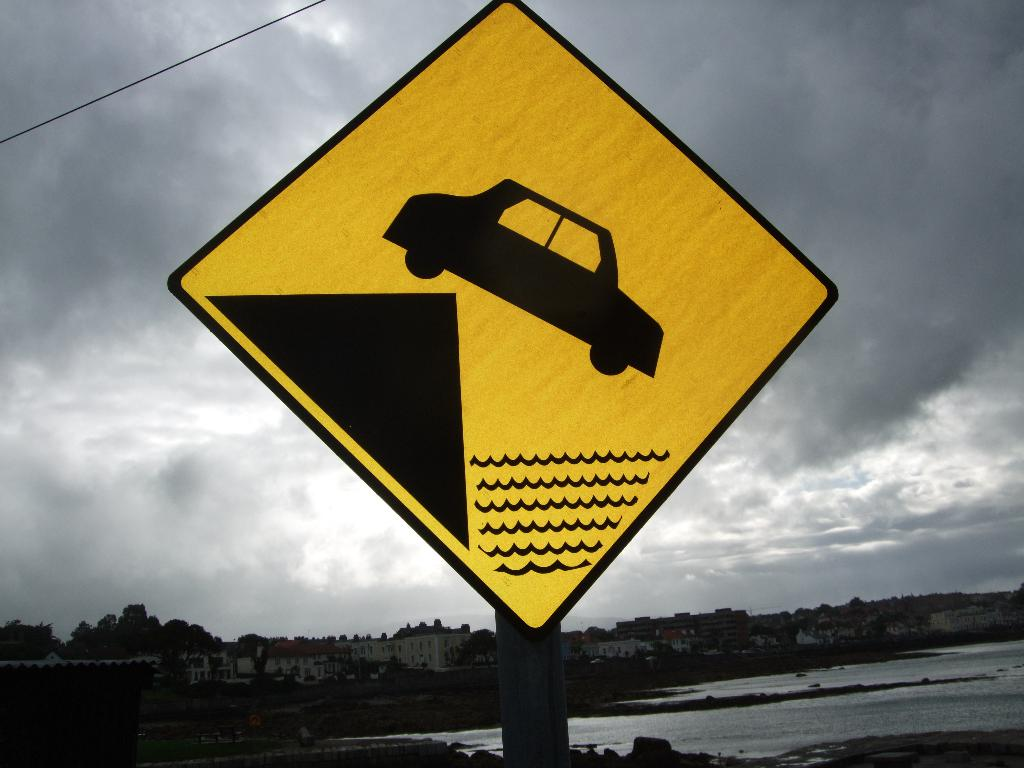river_bank_ahead: (164, 1, 851, 643)
